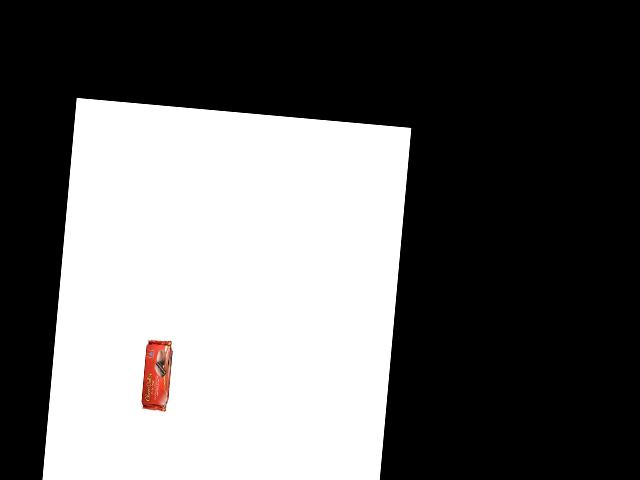chocolate: (140, 337, 180, 412)
